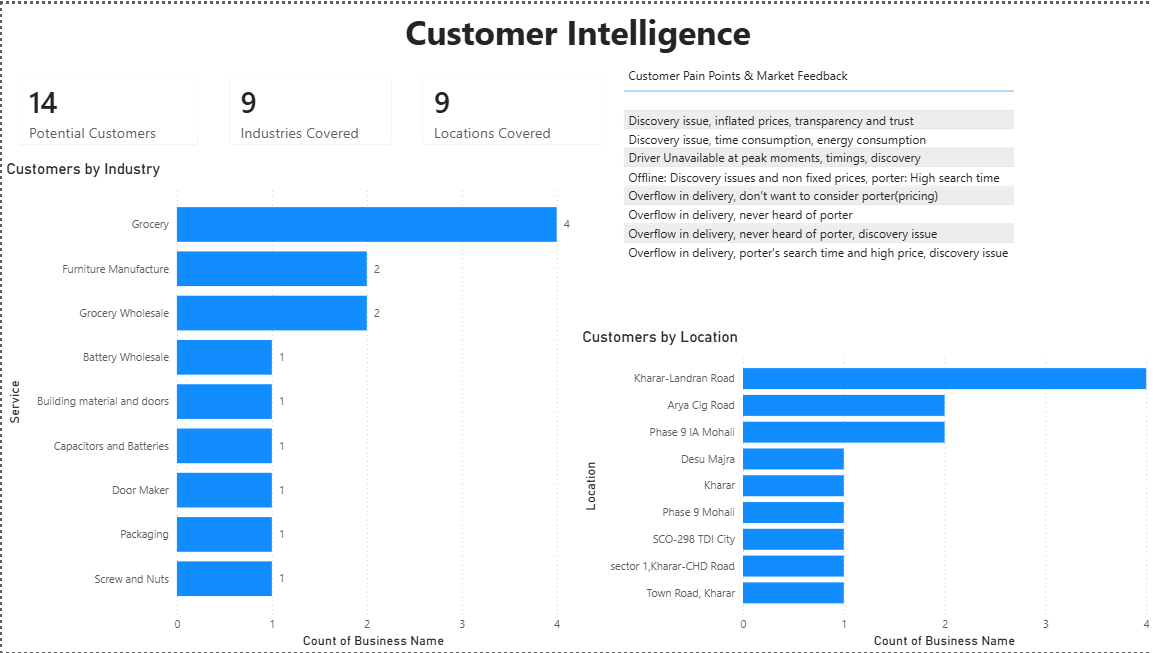

Layout of this report page (visuals, bound fields, positions):
{"tool":"powerbi","page":{"name":"Customer Intelligence","canvas":[1280,720],"ordinal":2},"visuals":[{"type":"cardVisual","fields":{"Data":["CountNonNull(Customers.Business Name)"]},"box":[0,63.3,235,110],"z":0},{"type":"textbox","box":[0,0,1280,63.3],"z":1},{"type":"cardVisual","fields":{"Data":["Count(Customers.Service)"]},"box":[235,63.3,215,110],"z":2},{"type":"cardVisual","fields":{"Data":["Count(Customers.Location)"]},"box":[450,63.3,235,110],"z":3},{"type":"clusteredBarChart","title":"Customers by Industry","fields":{"Category":["Customers.Service"],"Y":["CountNonNull(Customers.Business Name)"]},"box":[0,173.3,640,546.7],"z":4},{"type":"clusteredBarChart","title":"Customers by Location","fields":{"Category":["Customers.Location"],"Y":["CountNonNull(Customers.Business Name)"]},"box":[640,360,640,360],"z":5},{"type":"tableEx","fields":{"Values":["Customers.Pain Points"]},"box":[685,63.3,595,296.7],"z":6}]}

Visuals, with their boxes in screenshot pixels (x1, y1, x2, y2), scaled from the page's 1280x720 canvas onto the 1153x653 screenshot:
cardVisual - CountNonNull(Customers.Business Name): l=0, t=57, r=212, b=157
textbox: l=0, t=0, r=1152, b=57
cardVisual - Count(Customers.Service): l=212, t=57, r=405, b=157
cardVisual - Count(Customers.Location): l=405, t=57, r=617, b=157
"Customers by Industry" clusteredBarChart: l=0, t=157, r=576, b=652
"Customers by Location" clusteredBarChart: l=576, t=326, r=1152, b=652
tableEx - Customers.Pain Points: l=617, t=57, r=1152, b=326
